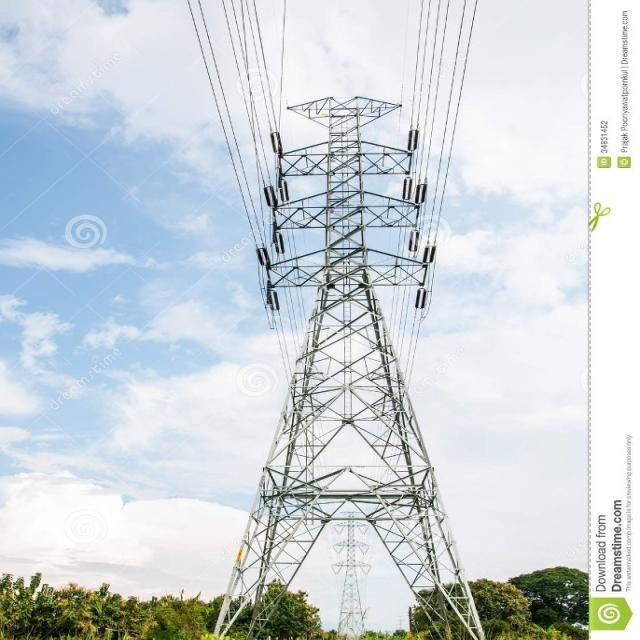non-critical vegetation: (222, 82, 487, 630)
